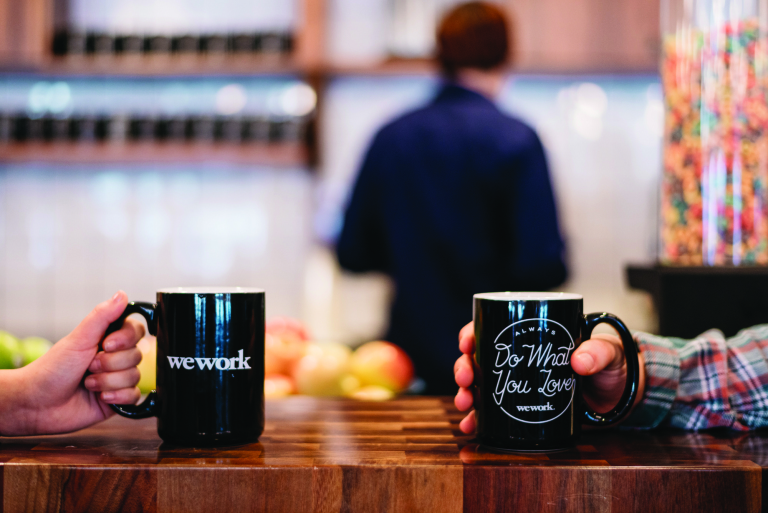wework: (164, 347, 253, 372), (515, 401, 554, 412)
